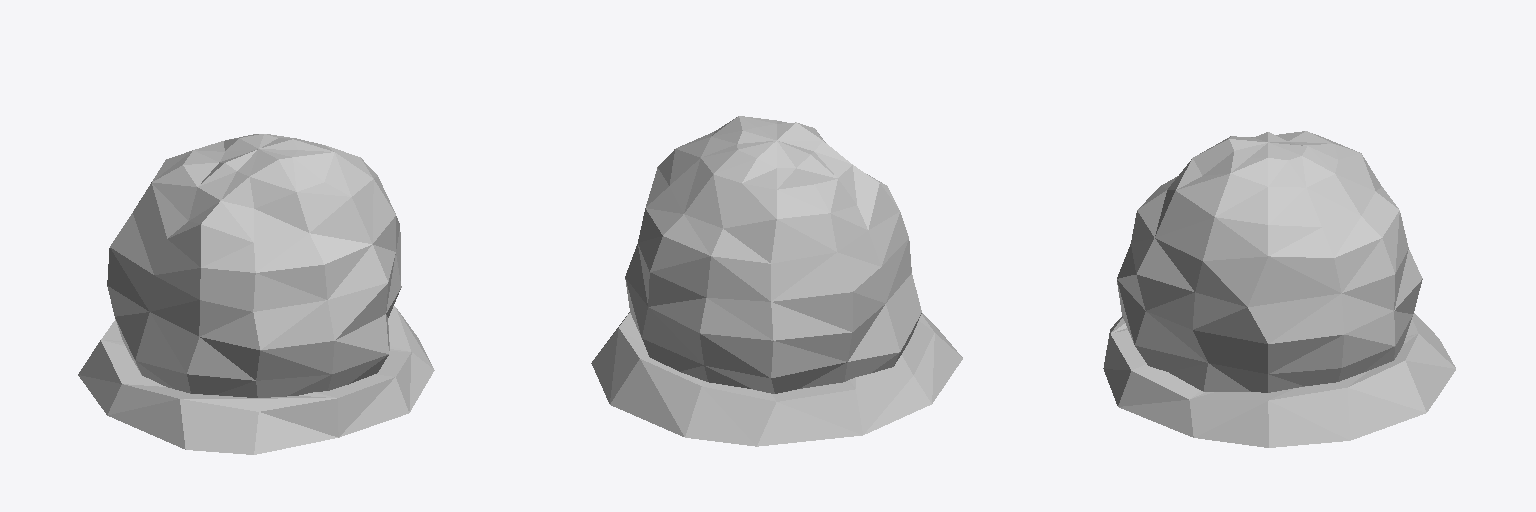
File: scaledBoulder.obj
3 renders of one model, left to right at view 1: azimuth 30°, elevation 25°; view 2: azimuth 150°, elevation 25°; view 3: azimuth 270°, elevation 25°, orthographic.
Parts seen in each view (by area): view 1: pSphere2; view 2: pSphere2; view 3: pSphere2.
Part boxes in pixels (x1,y1,x2,y2): pSphere2: (78,134,434,454); pSphere2: (591,116,962,446); pSphere2: (1103,131,1455,447).
Size of the model in its own units: 8.33 by 5.89 by 8.15.